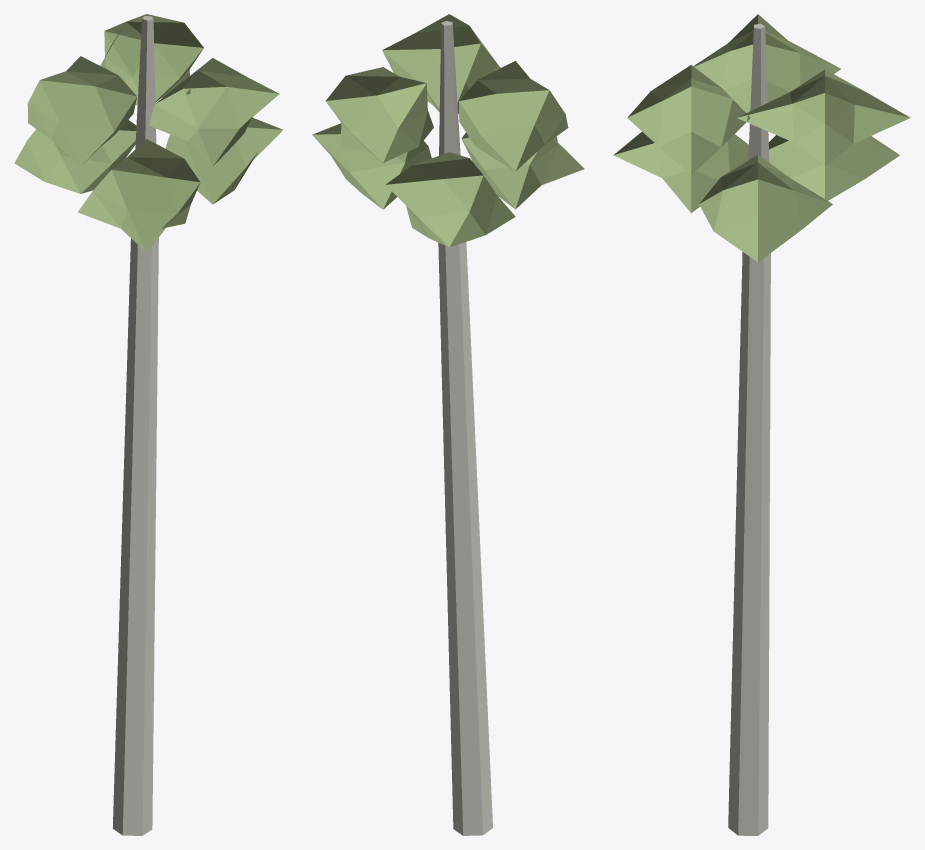
The model's file is birch_v14.glb.
3 views of the same model, side by side, from view 1: azimuth 30°, elevation 25°; view 2: azimuth 150°, elevation 25°; view 3: azimuth 270°, elevation 25° (orthographic).
Parts seen in each view (by area): view 1: lod0; view 2: lod0; view 3: lod0.
Part boxes in pixels (x1,y1,x2,y2): lod0: (14,14,282,835); lod0: (312,14,584,835); lod0: (613,14,910,835).
Size of what is drawn, in the model's own units: 1.94 by 5.8 by 1.93.
